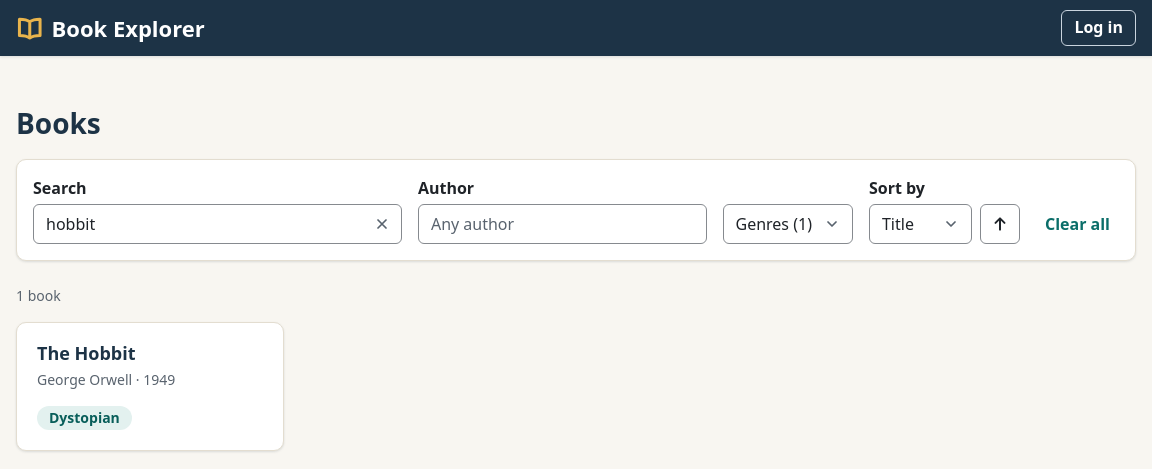
Test: the search box's × clears the search at once, from page 1, replacing the history entry, and focuses the box
The image size is (1152, 469).
Check: the link "The Hobbit" is shown, box [37, 341, 136, 365]
Click the button named "Clear search". click: (382, 224)
box: [366, 208, 398, 240]
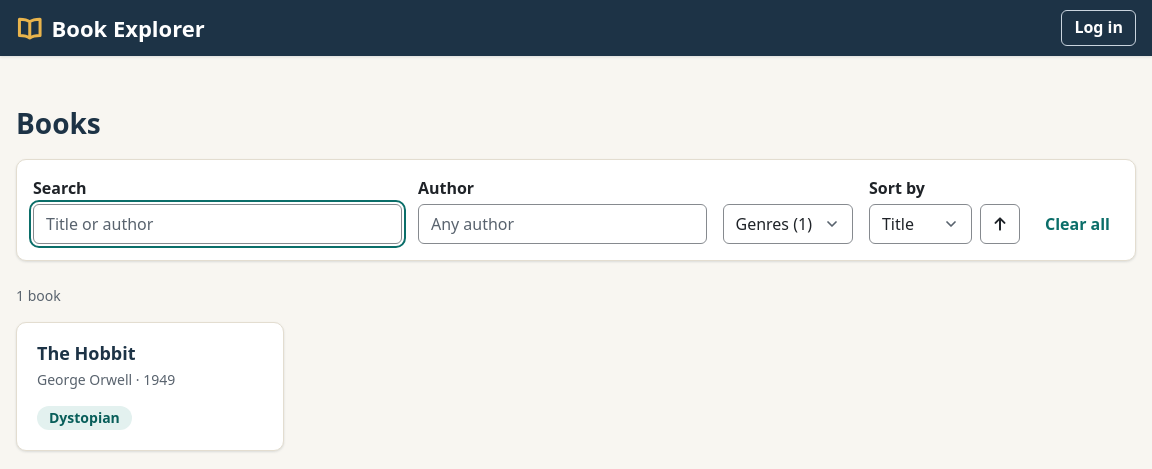
Check: the search field labelled "Search" is empty, box [33, 204, 402, 244]
